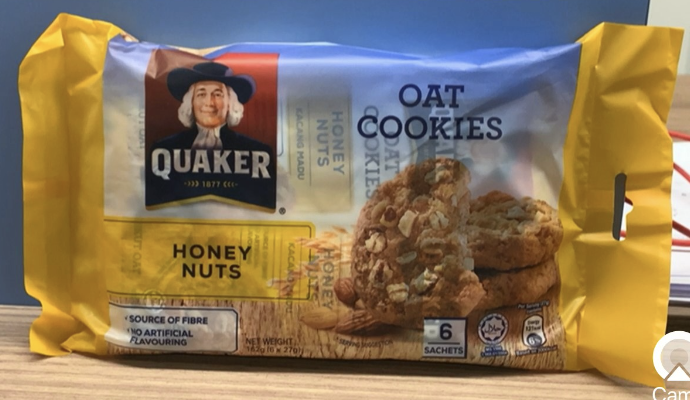cookies_150g: (113, 68, 561, 365)
